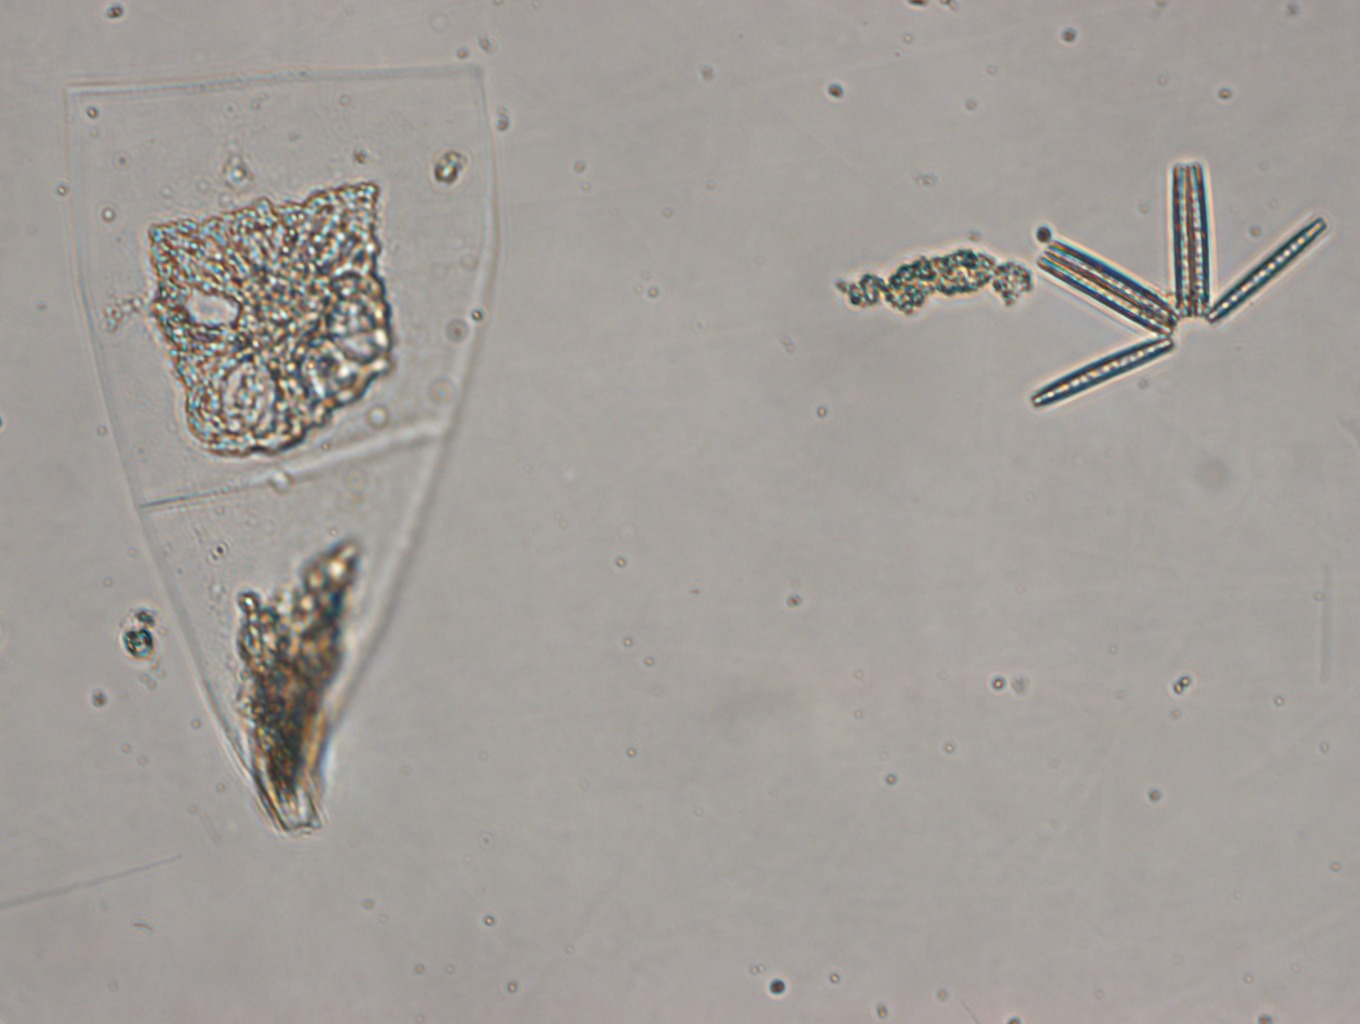helicotheca: (59, 57, 502, 836)
thalassionema nitzschioides: (1026, 158, 1328, 410)
